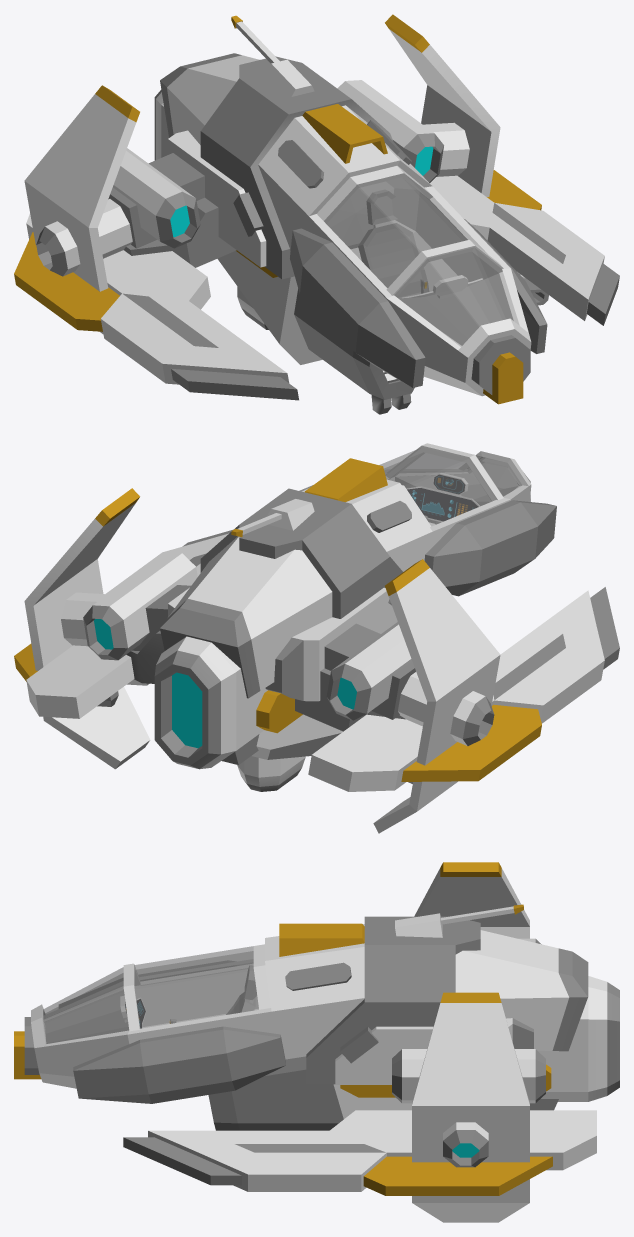
File: SM_SpaceshipS_Assault01.fbx
The picture shows the model from 3 angles, top to bottom: view 1: azimuth 30°, elevation 25°; view 2: azimuth 150°, elevation 25°; view 3: azimuth 270°, elevation 25°; orthographic projection. The views are drawn at different scales.
Parts seen in each view (by area): view 1: SM_SpaceshipS_Assault01_Cockpit, SM_SpaceshipS_Assault01_R_Wing, SM_SpaceshipS_Assault01_Body, SM_SpaceshipS_Assault01_L_Wing, SM_SpaceshipS_Assault01_Glass; view 2: SM_SpaceshipS_Assault01_Body, SM_SpaceshipS_Assault01_R_Wing, SM_SpaceshipS_Assault01_L_Wing, SM_SpaceshipS_Assault01_Cockpit, SM_SpaceshipS_Assault01_Glass; view 3: SM_SpaceshipS_Assault01_L_Wing, SM_SpaceshipS_Assault01_Body, SM_SpaceshipS_Assault01_Cockpit, SM_SpaceshipS_Assault01_Glass, SM_SpaceshipS_Assault01_R_Wing.
Part boxes in pixels (x1=…): SM_SpaceshipS_Assault01_Cockpit: x1=258, y1=104, x2=547, y2=404; SM_SpaceshipS_Assault01_R_Wing: x1=14, y1=85, x2=298, y2=400; SM_SpaceshipS_Assault01_Body: x1=154, y1=15, x2=414, y2=414; SM_SpaceshipS_Assault01_L_Wing: x1=337, y1=14, x2=619, y2=325; SM_SpaceshipS_Assault01_Glass: x1=324, y1=173, x2=484, y2=287; SM_SpaceshipS_Assault01_Body: x1=154, y1=488, x2=402, y2=791; SM_SpaceshipS_Assault01_R_Wing: x1=295, y1=559, x2=619, y2=833; SM_SpaceshipS_Assault01_L_Wing: x1=14, y1=488, x2=233, y2=769; SM_SpaceshipS_Assault01_Cockpit: x1=299, y1=443, x2=556, y2=596; SM_SpaceshipS_Assault01_Glass: x1=379, y1=447, x2=495, y2=526; SM_SpaceshipS_Assault01_L_Wing: x1=123, y1=992, x2=596, y2=1222; SM_SpaceshipS_Assault01_Body: x1=208, y1=904, x2=619, y2=1130; SM_SpaceshipS_Assault01_Cockpit: x1=14, y1=923, x2=364, y2=1103; SM_SpaceshipS_Assault01_Glass: x1=134, y1=946, x2=258, y2=1028; SM_SpaceshipS_Assault01_R_Wing: x1=414, y1=862, x2=541, y2=944.
Size of the model in its own units: 481 by 276 by 588.
